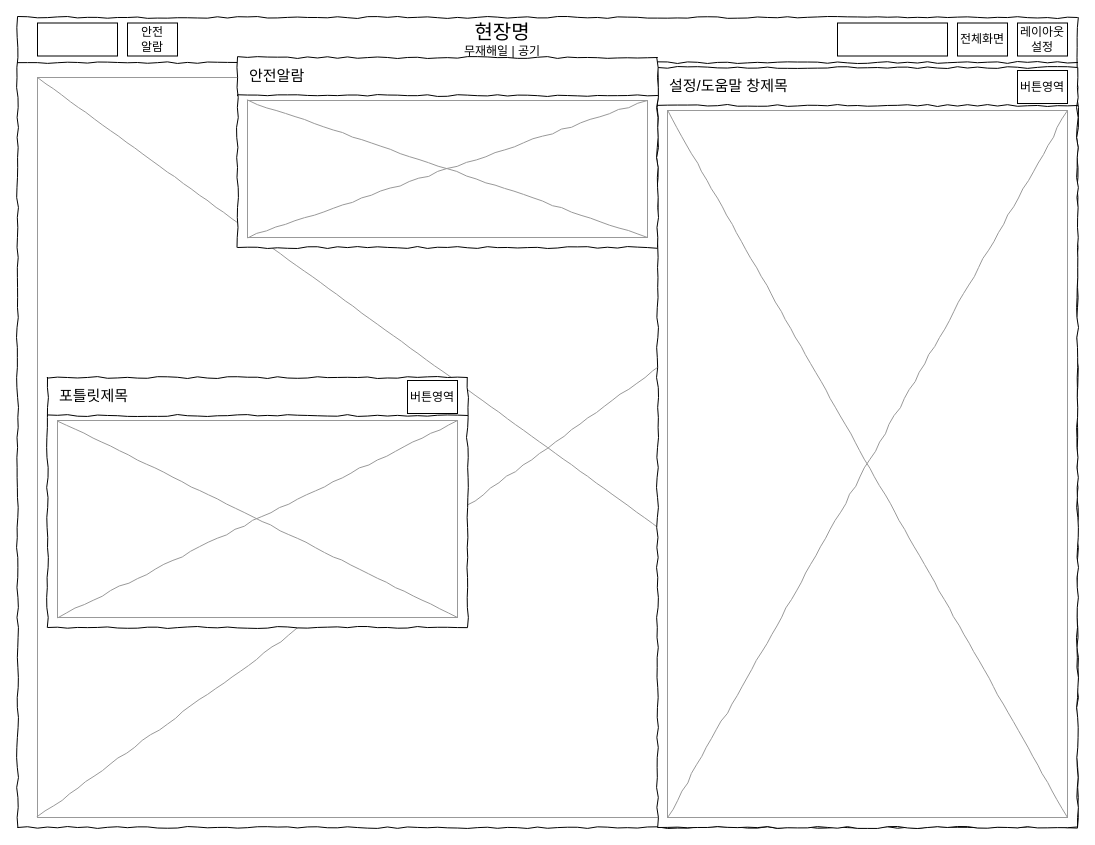
Some shapes in this 1095 by 845 pixel diagram are drawn without their labels. Here are the shapes that lost their labels. From the top down, the centre of each, then its label:
the point at 77,39: logo
the point at 892,39: 날씨
